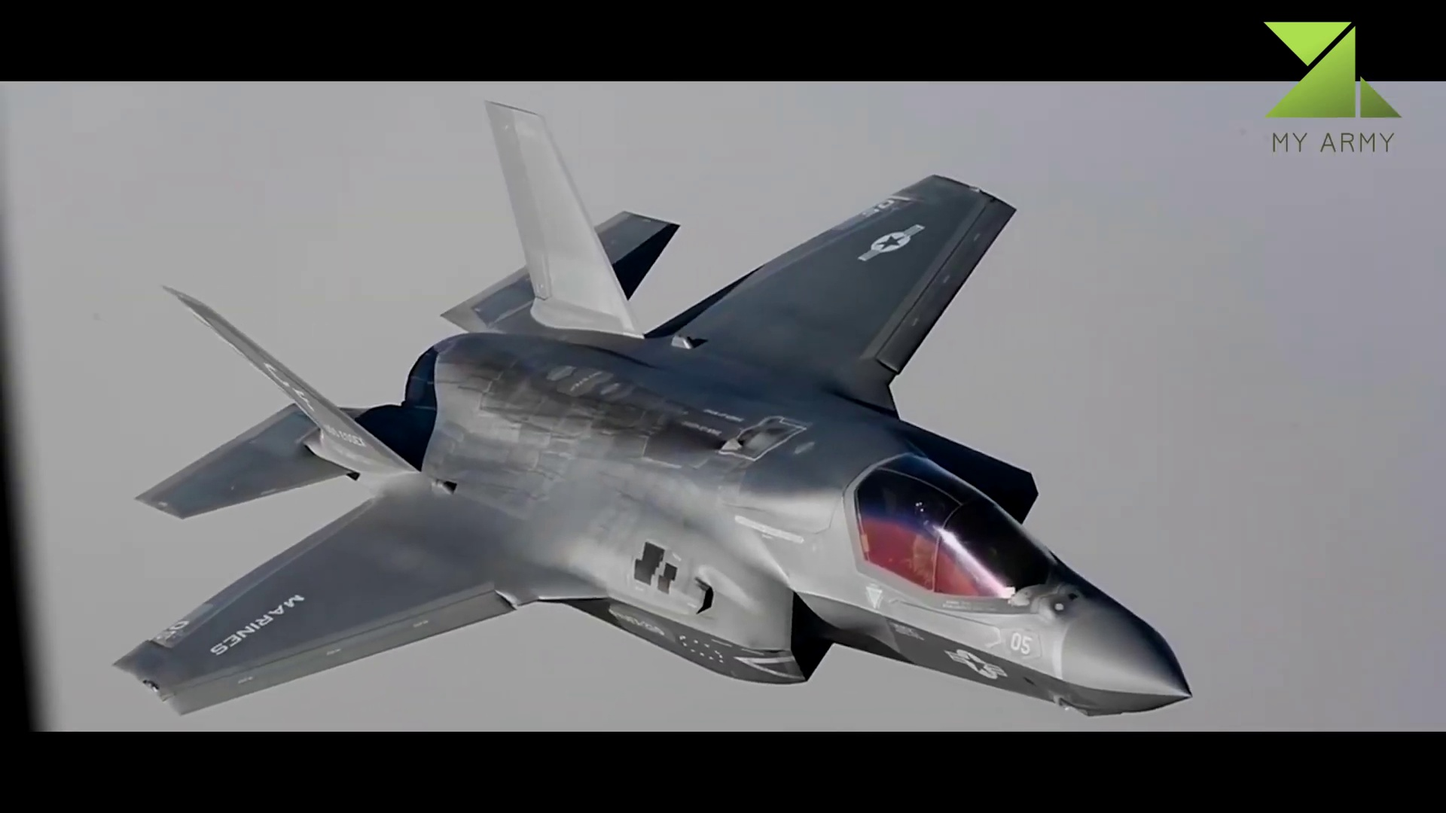F35: (126, 92, 1201, 725)
